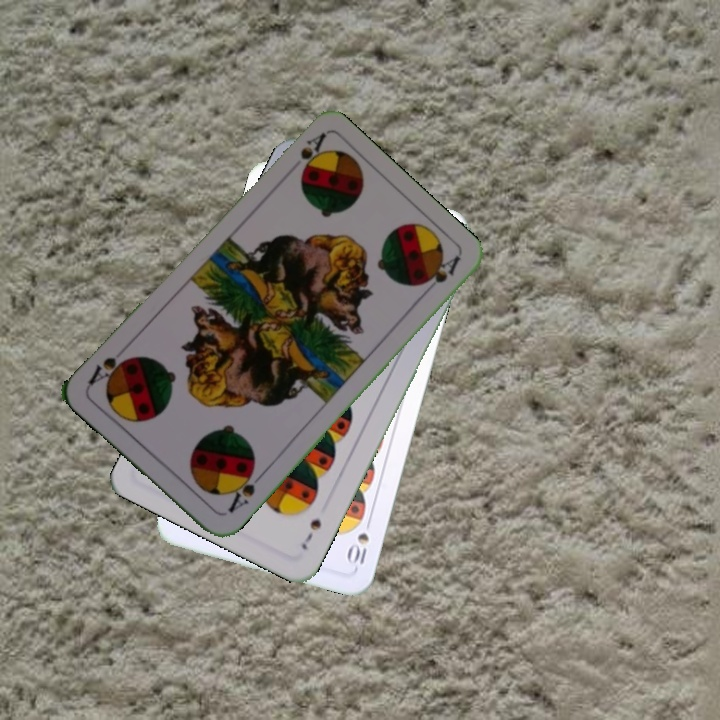S10: (344, 513, 375, 571)
S7: (297, 514, 324, 553)
SA: (223, 463, 266, 516), (296, 129, 328, 177)
